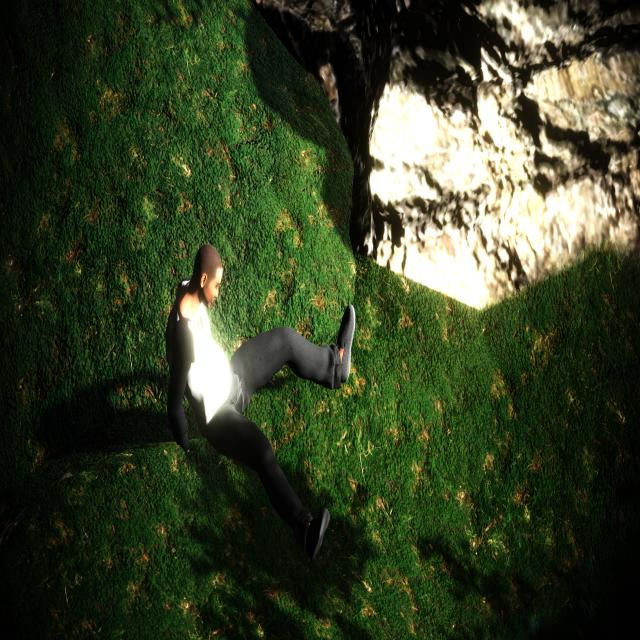Human: (154, 235, 358, 561)
